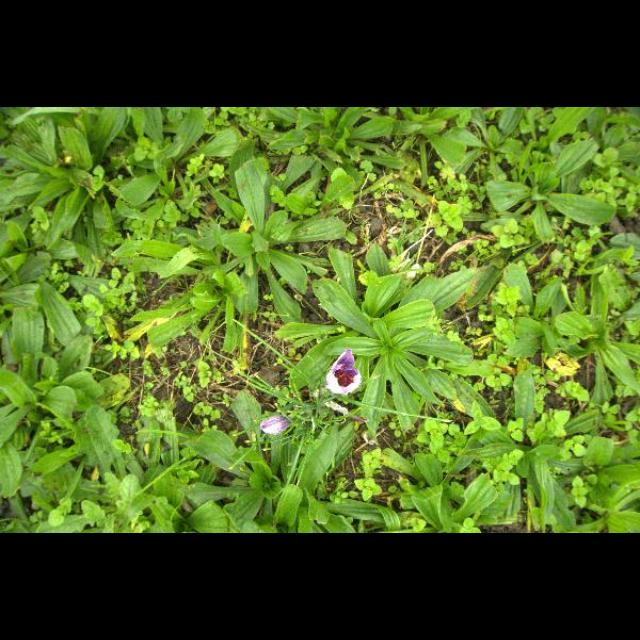flower: (326, 349, 360, 395), (260, 416, 290, 436)
